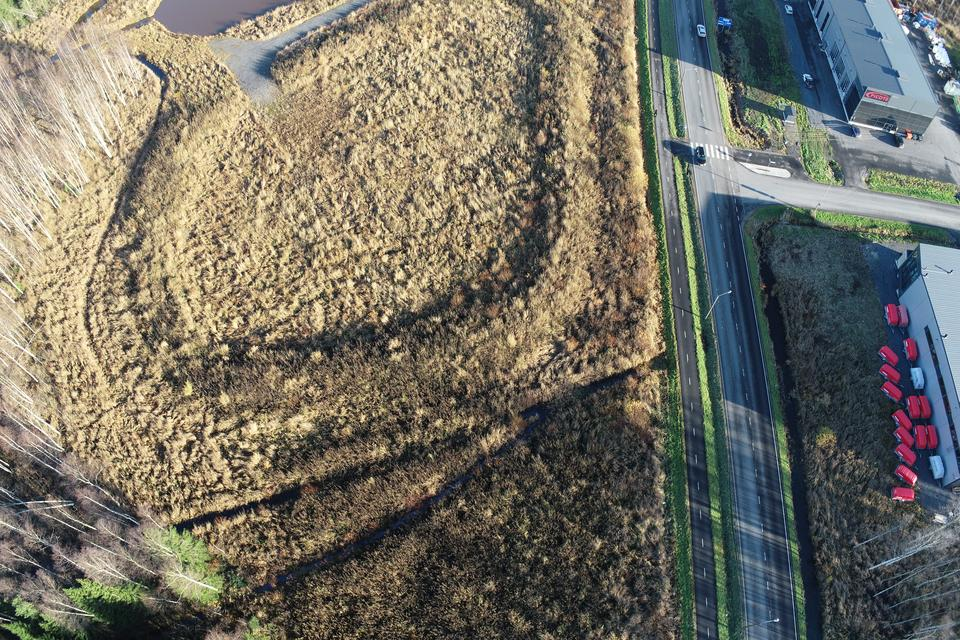intersection: (610, 139, 827, 230)
